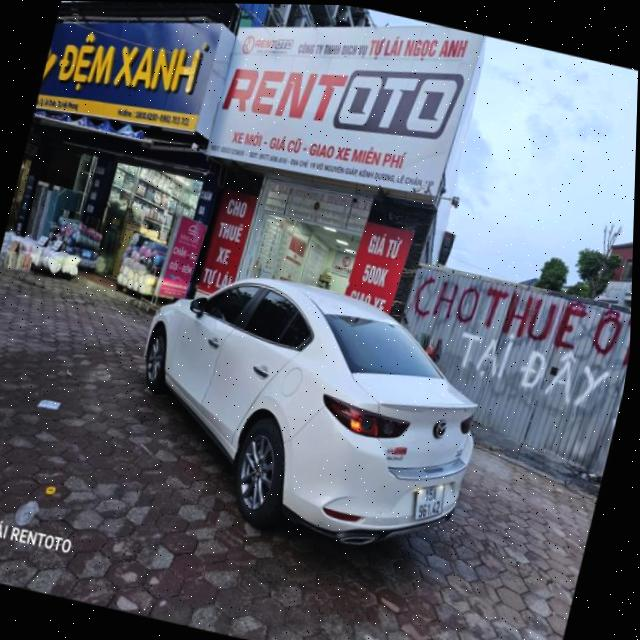car: (114, 259, 508, 566)
plate: (404, 477, 463, 529)
